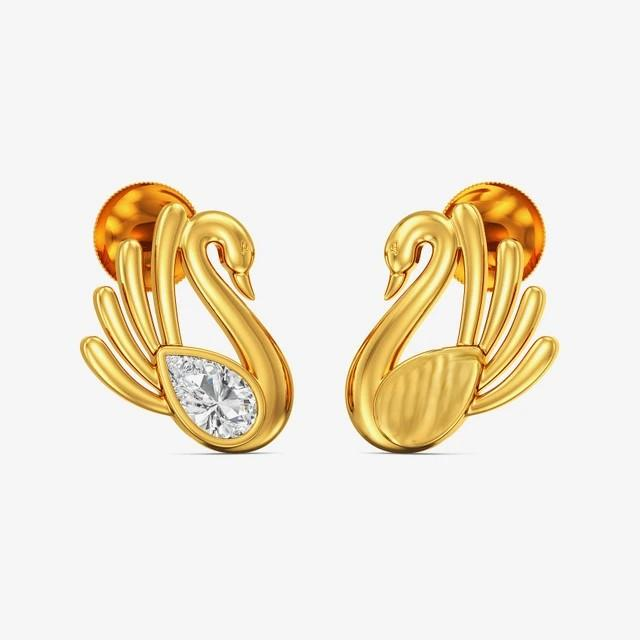missing gem: (380, 354, 477, 444)
